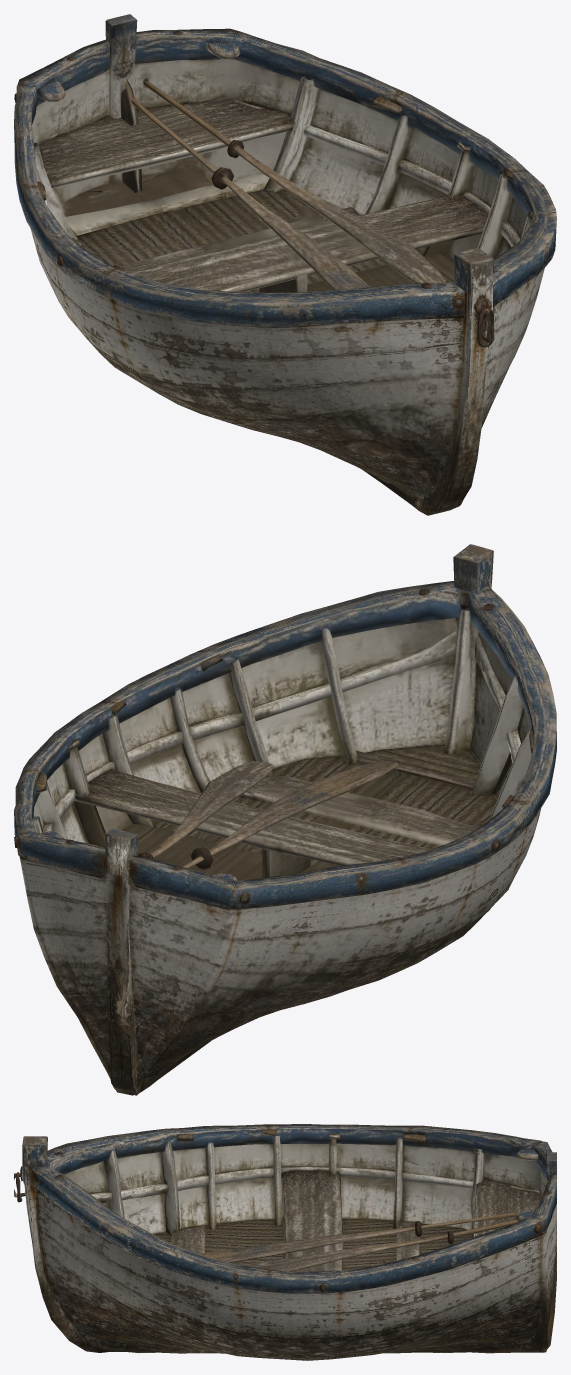
The model's file is rowing_dinghy.glb.
The picture shows the model from 3 angles, top to bottom: view 1: azimuth 30°, elevation 25°; view 2: azimuth 150°, elevation 25°; view 3: azimuth 270°, elevation 25°; orthographic projection. The views are drawn at different scales.
Parts seen in each view (by area): view 1: Mesh_0; view 2: Mesh_0; view 3: Mesh_0.
Part boxes in pixels (<box>): Mesh_0: <box>14,14,556,515</box>; Mesh_0: <box>14,544,556,1095</box>; Mesh_0: <box>14,1124,556,1360</box>.
Bounding box in the file's own units: 2.39 × 1.49 × 3.5.
Materials: 1 (1 with a texture image).
